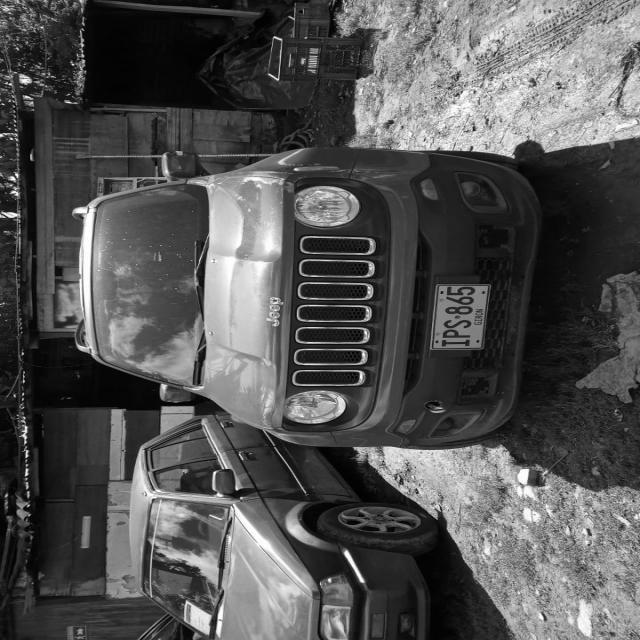plate: (431, 282, 496, 352)
